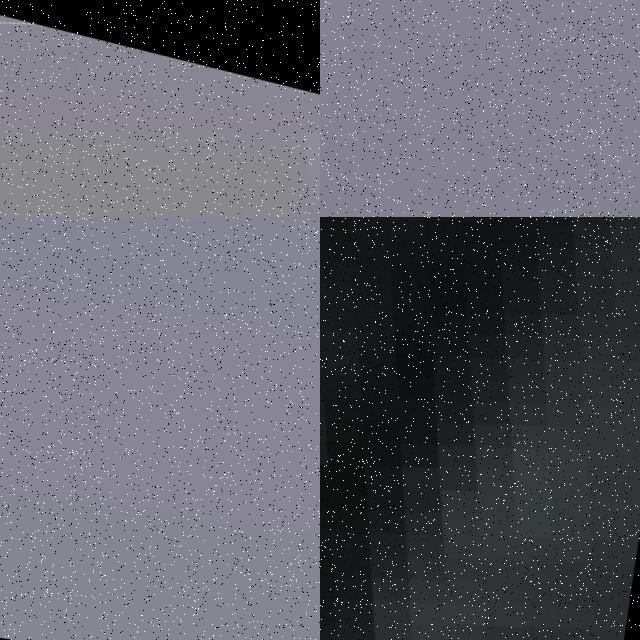drone: (320, 217, 640, 640), (0, 0, 320, 217)
